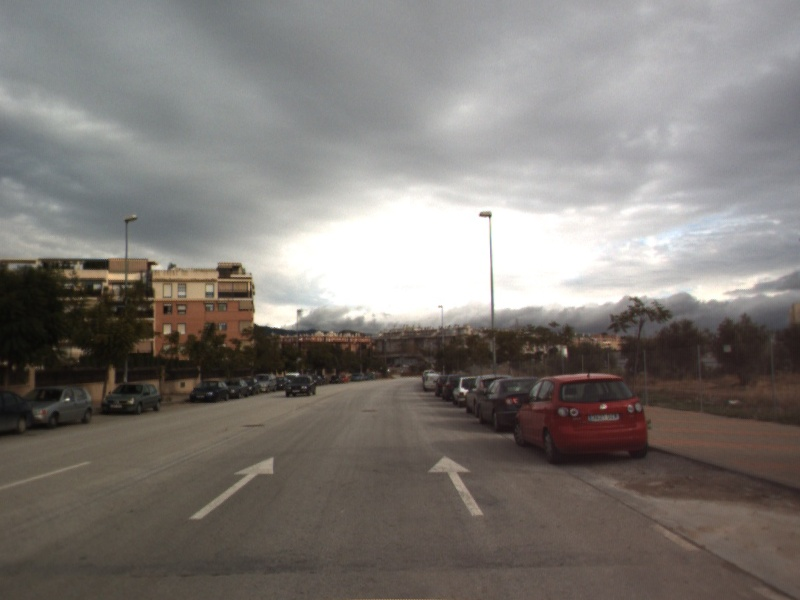STRAIGHT: (187, 455, 275, 521), (426, 454, 486, 517)
